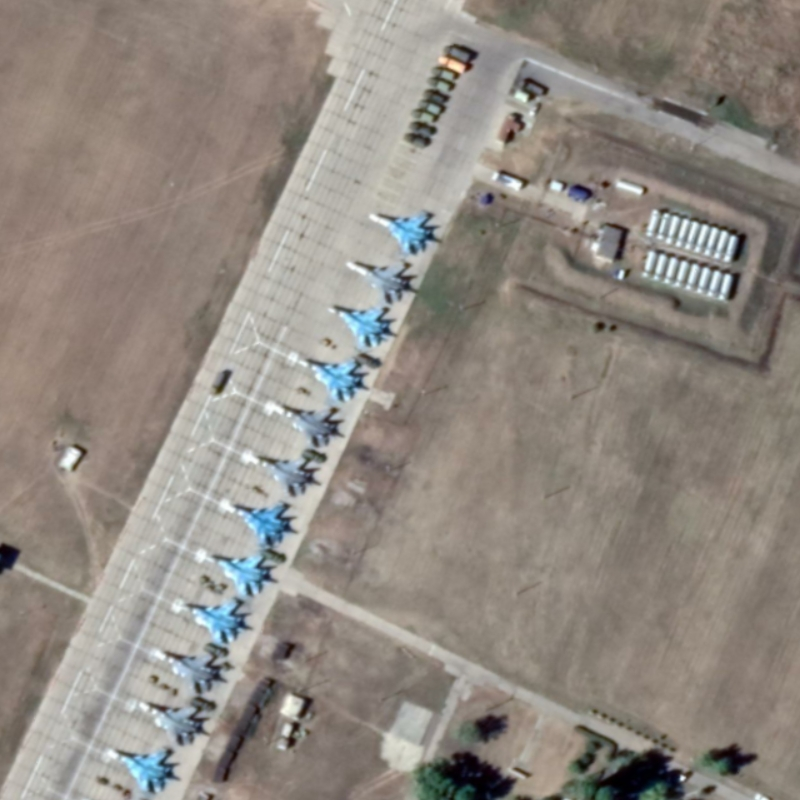A19: (216, 499, 301, 550), (101, 743, 179, 796), (342, 255, 418, 309), (171, 595, 250, 646), (294, 353, 371, 405), (267, 398, 344, 449), (132, 697, 210, 747), (198, 549, 275, 597), (150, 643, 221, 695), (242, 452, 322, 498), (366, 207, 437, 257), (325, 301, 396, 349)
